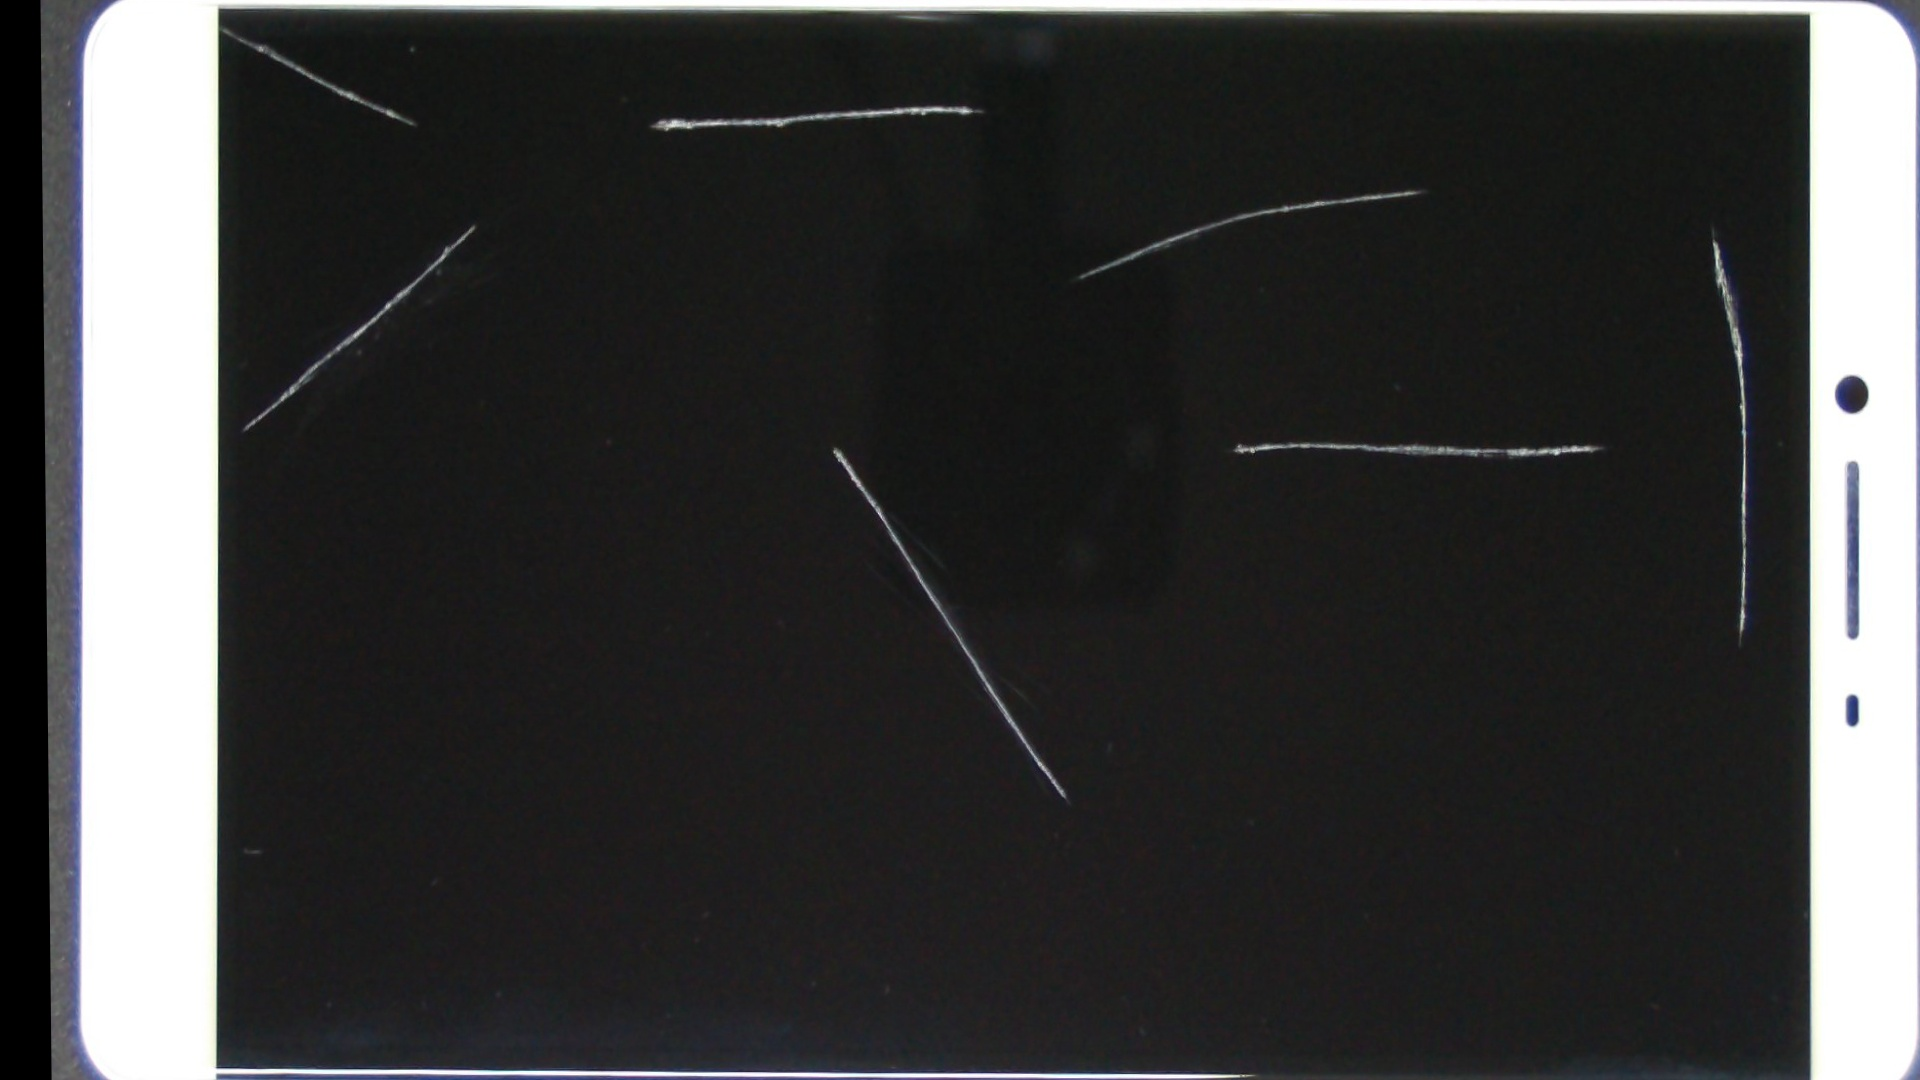oil: (638, 141, 1836, 742), (438, 146, 1234, 744), (733, 15, 1920, 365), (877, 34, 1920, 426), (488, 0, 1385, 232), (257, 40, 691, 409), (131, 0, 313, 107)
